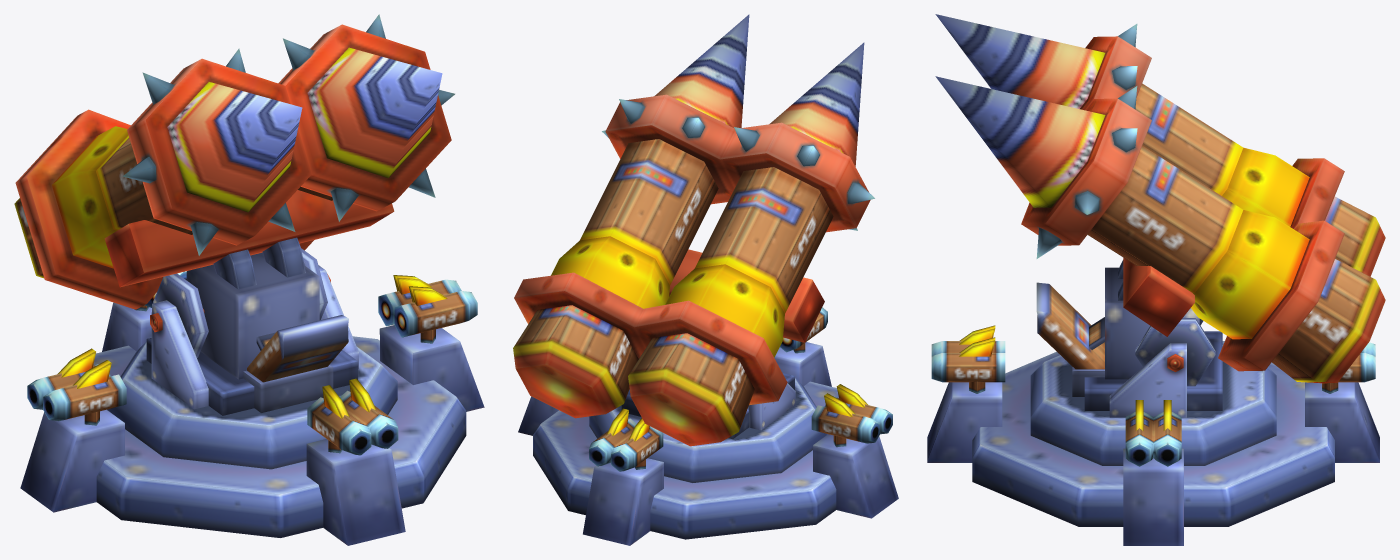
The model's file is pao05.FBX.
3 views of the same model, side by side, from view 1: azimuth 30°, elevation 25°; view 2: azimuth 150°, elevation 25°; view 3: azimuth 270°, elevation 25° (orthographic). The views are drawn at different scales.
Visible parts, largest first — view 1: pao04_01_02, pao05, pao05_06; view 2: pao04_01_02, pao05; view 3: pao04_01_02, pao05, pao05_06.
Part boxes in pixels (left/top/right/bottom): pao04_01_02: left=14, top=14, right=454, bottom=469; pao05: left=20, top=271, right=484, bottom=545; pao05_06: left=243, top=315, right=348, bottom=412; pao04_01_02: left=513, top=14, right=874, bottom=482; pao05: left=518, top=307, right=898, bottom=545; pao04_01_02: left=935, top=14, right=1385, bottom=465; pao05: left=927, top=325, right=1379, bottom=545; pao05_06: left=1036, top=282, right=1104, bottom=396.
Size of the model in its own units: 295 by 292 by 299.
